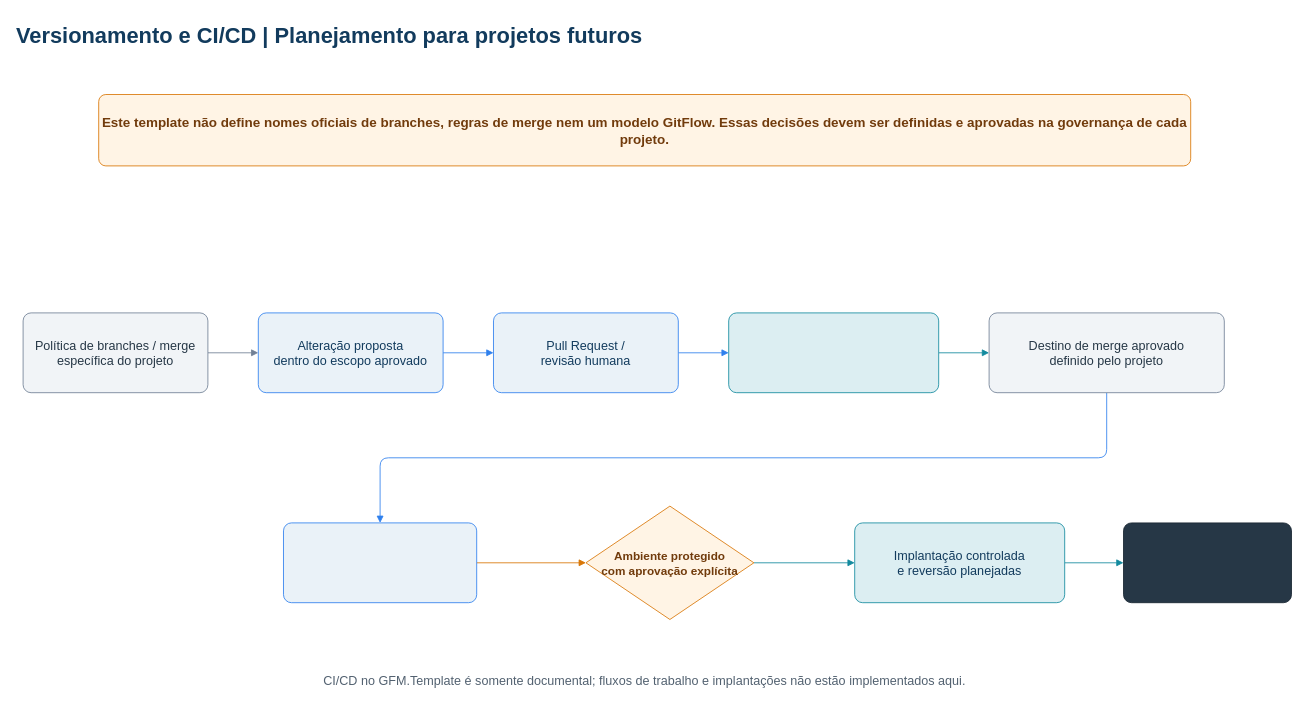
Image size: 1306x713. Some labels were removed from this diagram. Each missing label, with the centre of its shape:
Artefato versionado ou imagem: point (380, 562)
CI planejada compilação, testes e critérios de segurança: point (833, 352)
Produção sem implantação automática por padrão: point (1207, 562)
